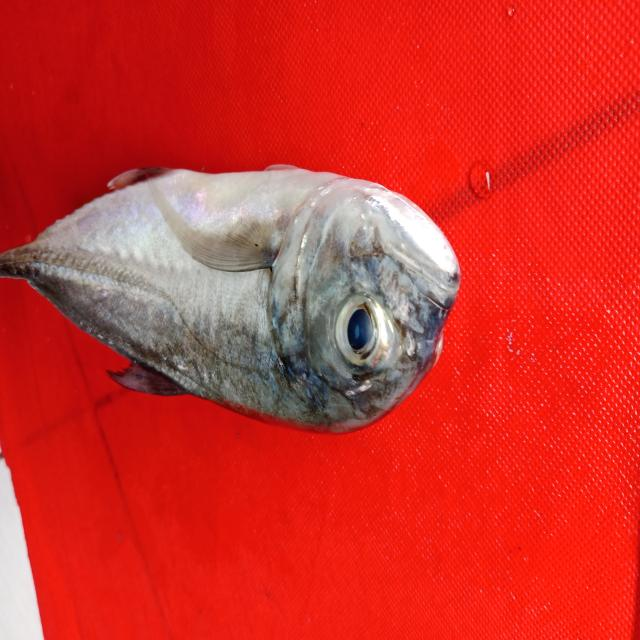ikan: (11, 131, 480, 442)
